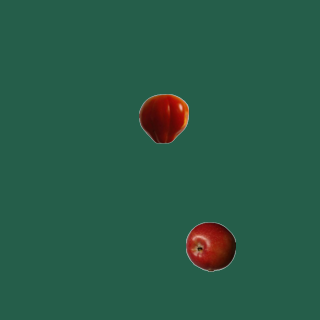Apple Braeburn: (185, 221, 235, 271)
Tomato 1: (138, 93, 188, 143)
